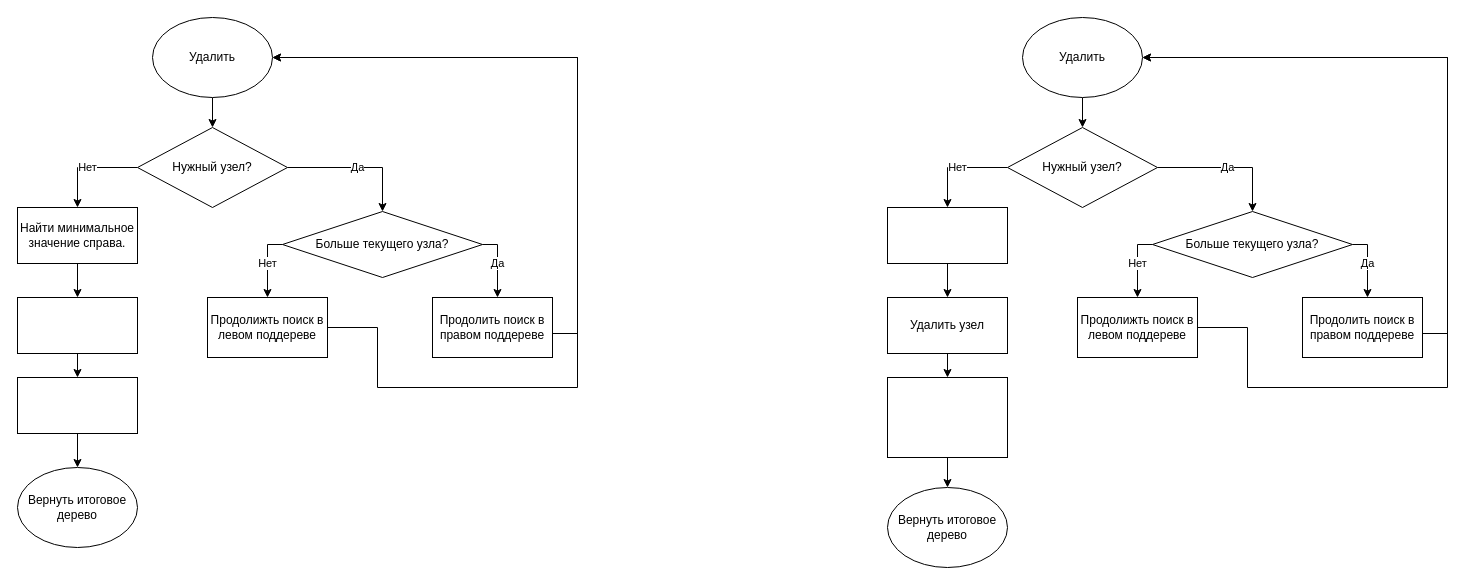
Image size: 1473x585. Some labels were removed from this diagram. The centre of each missing label's shape, as x and y in pixels:
"Заменть текущий узел минмальным из правого" belongs at point (77, 325).
"Объеденить 2 поддерева и записать результат вместо удаленного узла" belongs at point (947, 417).
"Получить левое и правое поддеревья узла" belongs at point (947, 235).
"Удалить в правом поддереве минимальный" belongs at point (77, 405).
